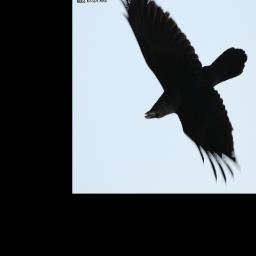Crow: (118, 0, 248, 187)
